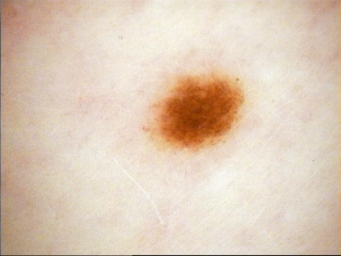nevus: (161, 76, 243, 151)
